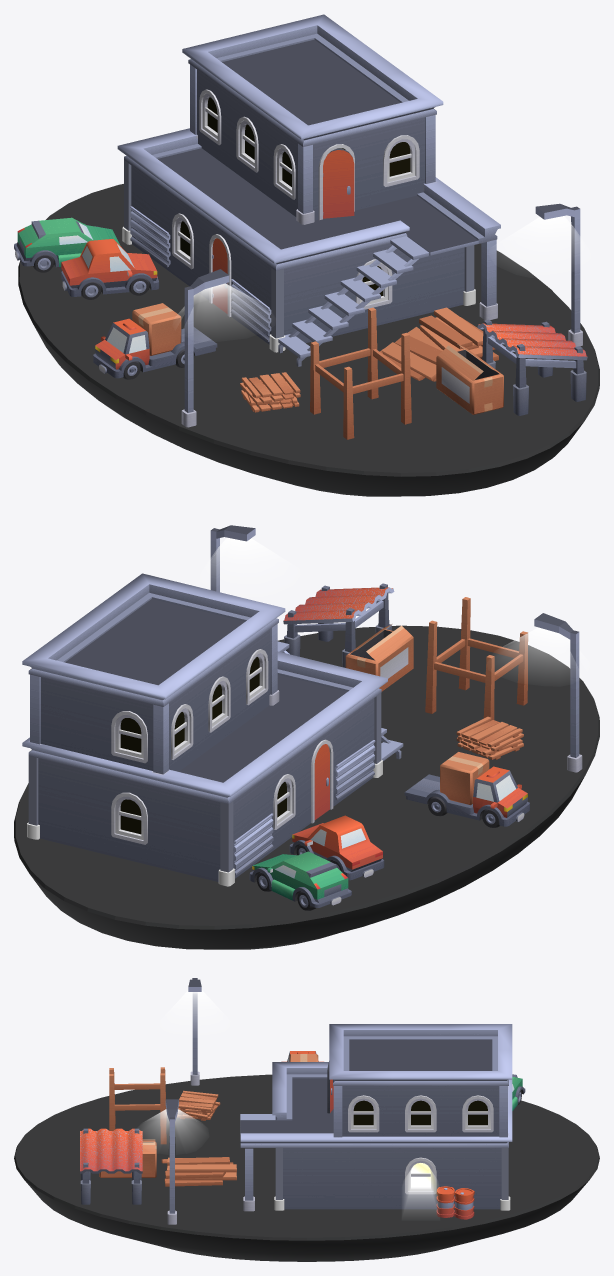
The model's file is diorama.glb.
3 views of the same model, one above another, from view 1: azimuth 30°, elevation 25°; view 2: azimuth 150°, elevation 25°; view 3: azimuth 270°, elevation 25° (orthographic). The views are drawn at different scales.
Visible parts, largest first — view 1: floor-corner-round, wall-corner-column-bottom, roof-flat-side.004, structure-metal-roof.001, stairs-open, structure-roof, sedan, wall-corner-column-bottom.002, wall-window-round-detailed.004, delivery-flat, roof-flat-corner.003, roof-flat-corner.004 (+35 smaller); view 2: floor-corner-round, wall-corner-column-bottom.001, wall-corner-column-bottom.003, wall-window-round-detailed.010, structure-metal-roof.001, structure-roof, delivery-flat, hatchback-sport, wall.003, roof-flat-corner.002, sedan, roof-flat-corner.001 (+32 smaller); view 3: floor-corner-round, wall-corner-column-bottom.002, wall, structure-metal-roof.001, wall-corner-column-bottom.003, wall-window-round-detailed.009, roof-flat-side.004, wall-window-round-detailed.011, wall-window-round-detailed.008, wall-window-round-detailed.005, roof-flat-corner.001, roof-flat-corner.004 (+25 smaller).
Part boxes in pixels (x1,y1,x2,y2): floor-corner-round: (18, 184, 599, 496); wall-corner-column-bottom: (239, 245, 341, 352); roof-flat-side.004: (369, 180, 500, 255); structure-metal-roof.001: (477, 319, 587, 415); stairs-open: (278, 236, 429, 366); structure-roof: (310, 307, 411, 439); sedan: (61, 239, 159, 299); wall-corner-column-bottom.002: (406, 245, 475, 318); wall-window-round-detailed.004: (368, 117, 424, 207); delivery-flat: (93, 318, 217, 379); roof-flat-corner.003: (253, 14, 364, 71); roof-flat-corner.004: (182, 32, 293, 90); floor-corner-round: (14, 625, 599, 949); wall-corner-column-bottom.001: (162, 778, 264, 886); wall-corner-column-bottom.003: (27, 756, 97, 852); wall-window-round-detailed.010: (97, 773, 162, 868); structure-metal-roof.001: (283, 583, 394, 667); structure-roof: (425, 597, 528, 720); delivery-flat: (404, 766, 529, 827); hatchback-sport: (249, 851, 351, 910); wall.003: (40, 677, 97, 757); roof-flat-corner.002: (101, 573, 213, 631); sedan: (289, 815, 384, 880); roof-flat-corner.001: (173, 591, 285, 650); floor-corner-round: (14, 1074, 599, 1261); wall-corner-column-bottom.002: (274, 1148, 334, 1210); wall: (335, 1148, 392, 1209); structure-metal-roof.001: (80, 1128, 142, 1204); wall-corner-column-bottom.003: (449, 1148, 510, 1210); wall-window-round-detailed.009: (392, 1148, 449, 1209); roof-flat-side.004: (240, 1120, 334, 1147); wall-window-round-detailed.011: (392, 1086, 449, 1136); wall-window-round-detailed.008: (342, 1086, 392, 1136); wall-window-round-detailed.005: (449, 1086, 499, 1136); roof-flat-corner.001: (329, 1024, 392, 1058); roof-flat-corner.004: (449, 1024, 512, 1058).
Size of what is drawn, in the model's own units: 13.65 by 7.54 by 20.5.
25 materials, 22 textured.
